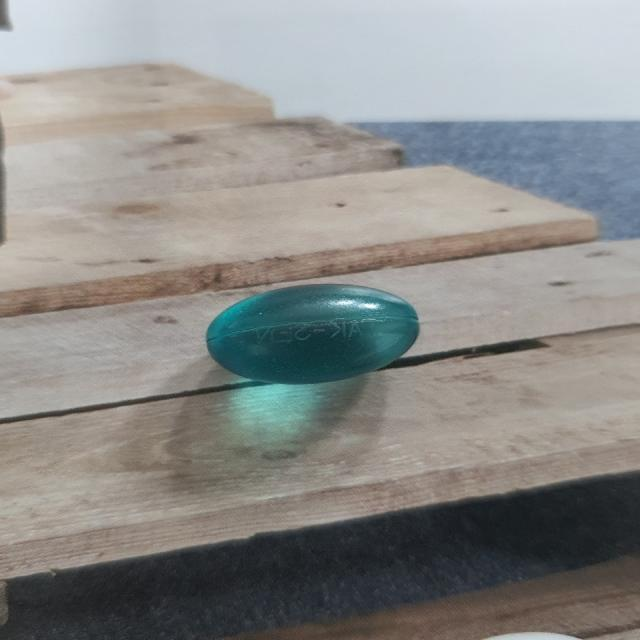pill: (196, 251, 449, 403)
